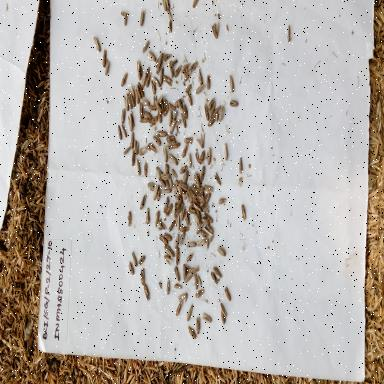pbw: (154, 52, 164, 74), (162, 73, 174, 91), (194, 172, 204, 192), (213, 263, 224, 281), (195, 80, 207, 96), (216, 244, 228, 260), (154, 126, 167, 140), (188, 324, 198, 342), (128, 86, 136, 108), (92, 36, 102, 53), (151, 134, 163, 148), (119, 70, 128, 88), (166, 8, 175, 26), (222, 142, 230, 162), (185, 191, 195, 207), (134, 156, 142, 176), (160, 145, 168, 165), (216, 194, 226, 210), (168, 118, 176, 138), (176, 300, 186, 316), (170, 152, 180, 168), (186, 303, 194, 323), (158, 232, 169, 246), (212, 102, 223, 116), (147, 141, 158, 155), (156, 185, 164, 204), (204, 147, 212, 166), (165, 201, 173, 219), (181, 169, 189, 187), (183, 185, 192, 201), (135, 62, 143, 80), (180, 142, 188, 160), (138, 10, 146, 28), (197, 68, 205, 86), (143, 284, 151, 302), (101, 47, 107, 71), (138, 192, 146, 210), (192, 200, 204, 212), (164, 162, 172, 180), (202, 102, 210, 120), (228, 98, 240, 110), (174, 266, 181, 286), (170, 280, 184, 290), (140, 96, 150, 110), (140, 38, 150, 52), (192, 270, 199, 290), (218, 106, 225, 126), (174, 63, 184, 77), (188, 60, 198, 74), (133, 84, 139, 107), (207, 96, 215, 113), (210, 101, 217, 120), (195, 314, 201, 336), (195, 288, 206, 300), (177, 180, 188, 192), (182, 262, 188, 284), (167, 108, 173, 130), (220, 305, 226, 327), (202, 310, 213, 322), (174, 245, 180, 267), (162, 50, 172, 63), (214, 170, 222, 186), (219, 301, 227, 317), (186, 91, 194, 107), (160, 97, 168, 113), (198, 149, 206, 165), (120, 108, 128, 124), (174, 178, 182, 194), (128, 259, 136, 275), (224, 286, 232, 302), (154, 100, 162, 116), (162, 102, 170, 118), (127, 112, 133, 133), (287, 24, 293, 45), (127, 209, 134, 227), (142, 66, 151, 80), (138, 101, 144, 122), (119, 124, 128, 138), (200, 193, 209, 207), (183, 69, 192, 83), (178, 163, 188, 175), (203, 210, 213, 222), (138, 78, 144, 98), (188, 204, 198, 216), (186, 240, 198, 250), (130, 130, 136, 150), (164, 230, 174, 242), (196, 237, 208, 247), (152, 92, 158, 112), (123, 144, 133, 156), (178, 231, 186, 246), (165, 132, 175, 144), (160, 172, 172, 182), (169, 58, 175, 78), (138, 145, 148, 157), (147, 182, 159, 192), (204, 182, 214, 194), (166, 138, 176, 150), (204, 222, 214, 234), (206, 113, 216, 125), (148, 114, 158, 126), (172, 183, 180, 198), (132, 250, 138, 270), (200, 165, 207, 182), (229, 75, 236, 92), (144, 206, 150, 225), (158, 66, 164, 85), (196, 222, 204, 236), (158, 218, 166, 232), (156, 164, 164, 178), (196, 270, 203, 286), (211, 270, 219, 284), (184, 80, 192, 94), (186, 248, 194, 262), (165, 278, 172, 294), (192, 212, 200, 226), (152, 76, 160, 90), (148, 48, 156, 62), (171, 54, 179, 68), (122, 94, 128, 112), (133, 139, 139, 157), (163, 196, 169, 214), (130, 148, 136, 166), (154, 209, 160, 227), (181, 112, 187, 130), (238, 156, 244, 174), (126, 91, 132, 109), (130, 111, 136, 129), (152, 183, 158, 201), (104, 58, 110, 76), (164, 254, 173, 266), (240, 202, 246, 220), (206, 72, 212, 90), (180, 66, 192, 75), (182, 264, 194, 273), (175, 214, 181, 232), (169, 218, 176, 233), (174, 117, 182, 130), (194, 186, 207, 194), (185, 210, 191, 227), (179, 224, 189, 234), (184, 272, 194, 282), (171, 139, 181, 149), (184, 136, 194, 146), (174, 97, 184, 107), (192, 182, 202, 192), (143, 160, 148, 180), (200, 205, 210, 215), (187, 150, 192, 170), (157, 92, 164, 106), (172, 109, 179, 123), (138, 253, 146, 265), (189, 188, 197, 200), (179, 206, 185, 222), (170, 167, 178, 179), (140, 72, 146, 88), (161, 0, 169, 12), (174, 233, 180, 249), (117, 124, 123, 140), (146, 70, 152, 86), (151, 79, 157, 95), (198, 217, 210, 225), (183, 104, 189, 120), (158, 176, 166, 188), (143, 109, 153, 118), (139, 269, 145, 284), (120, 8, 129, 18), (162, 186, 172, 195), (199, 228, 208, 238), (194, 151, 200, 166), (189, 264, 200, 272), (178, 292, 189, 300), (182, 62, 193, 70), (167, 20, 173, 34), (167, 176, 173, 190), (207, 232, 215, 242), (148, 102, 156, 112), (122, 12, 127, 28), (140, 117, 150, 125), (178, 201, 184, 213), (170, 100, 176, 112), (175, 119, 179, 135), (192, 0, 199, 9), (158, 278, 162, 292)
